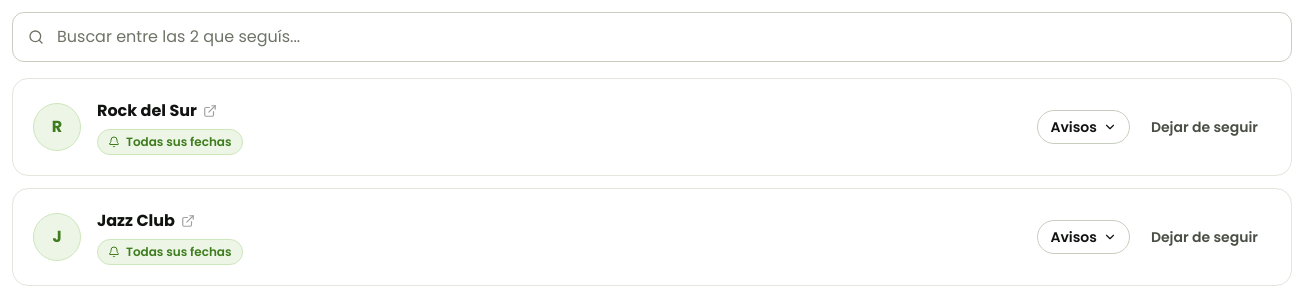
Test case: FollowingManager › búsqueda dentro de las seguidas › avisa si el filtro no encuentra nada
Step 1. Type "cumbia" into the search field with placeholder "Buscar entre las 2 que seguís..." → (652, 37), box [12, 12, 1292, 62]
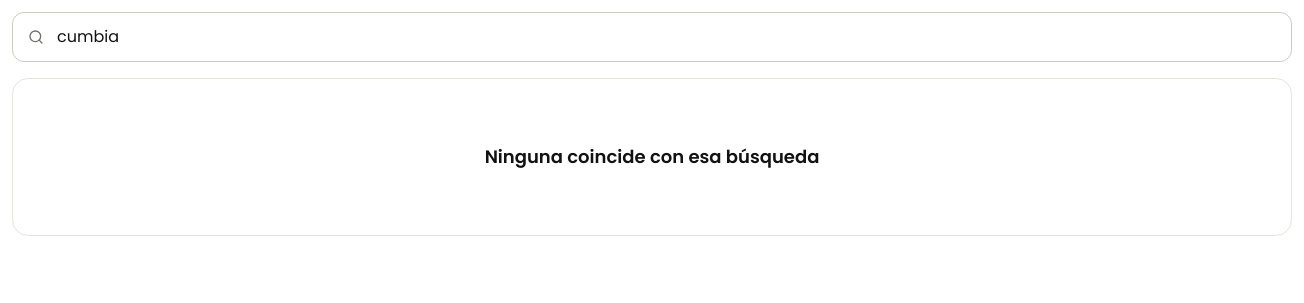
Result: the text "Ninguna coincide con esa búsqueda" is shown at [485, 144, 819, 169]
